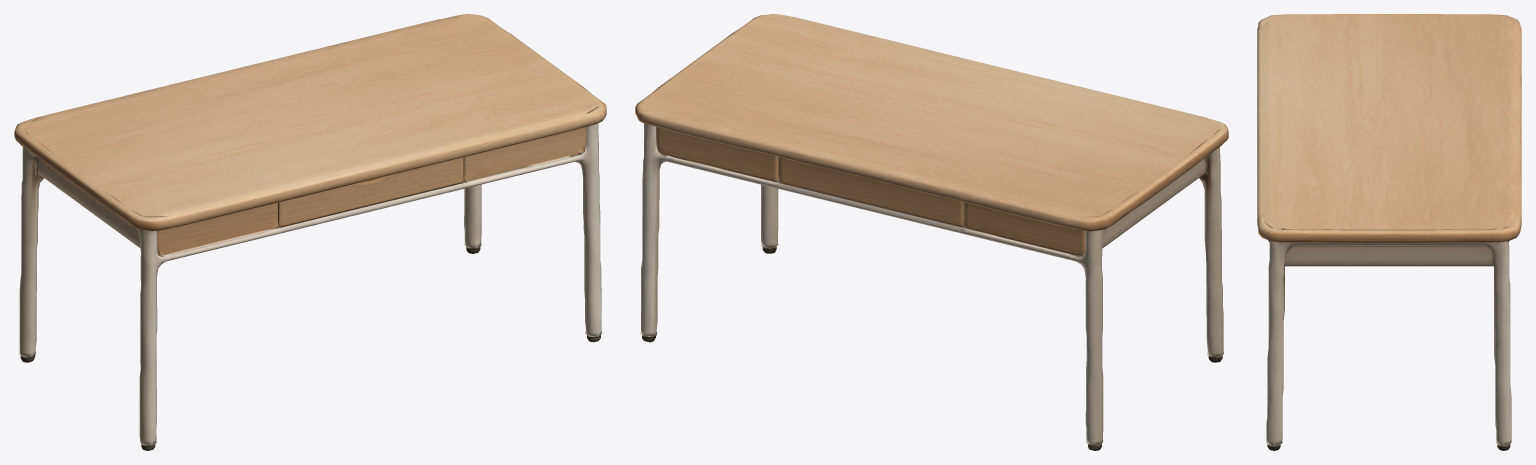
Rendered from oak-workdesk-v1.glb.
3 renders of one model, left to right at view 1: azimuth 30°, elevation 25°; view 2: azimuth 150°, elevation 25°; view 3: azimuth 270°, elevation 25°, orthographic. The views are drawn at different scales.
Parts seen in each view (by area): view 1: oak-workdesk-v1; view 2: oak-workdesk-v1; view 3: oak-workdesk-v1.
Boxes of the visible parts, x1=… form: oak-workdesk-v1: x1=14, y1=14, x2=606, y2=450; oak-workdesk-v1: x1=635, y1=14, x2=1228, y2=450; oak-workdesk-v1: x1=1257, y1=14, x2=1521, y2=450.
Size of the model in its own units: 1.3 by 0.6131 by 0.6589.
Materials: 1 (1 with a texture image).
